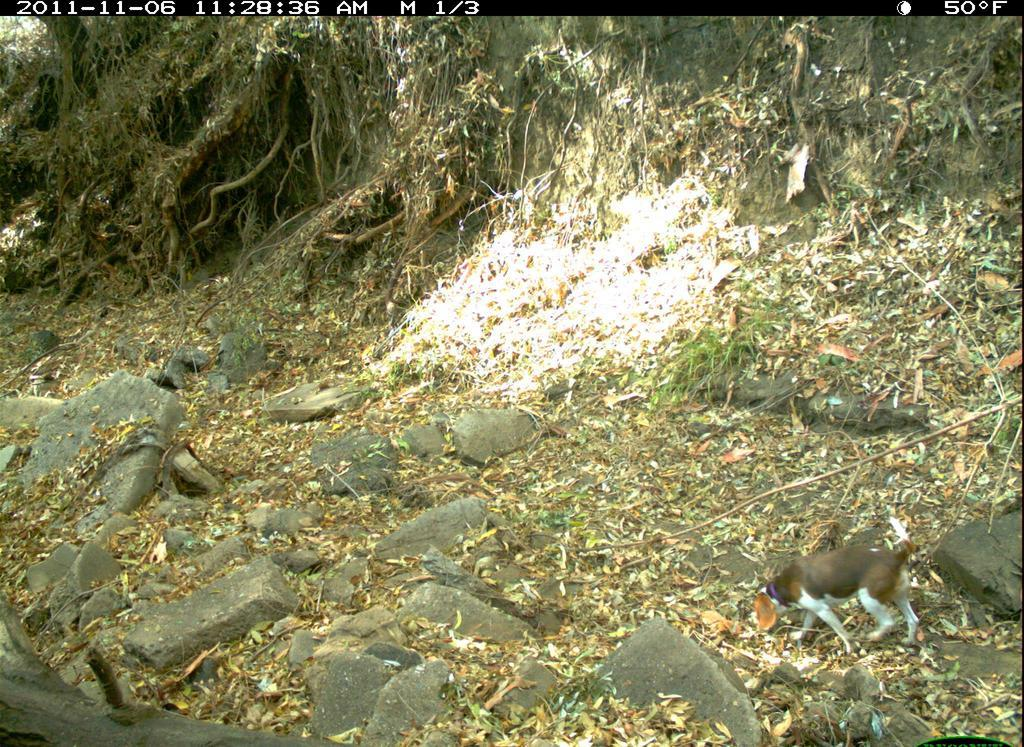dog: (747, 525, 964, 661)
